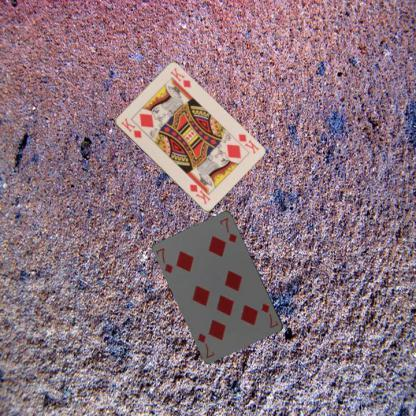7d: (258, 300, 280, 330), (154, 245, 176, 274)
Kd: (235, 131, 261, 156), (118, 115, 143, 139)
